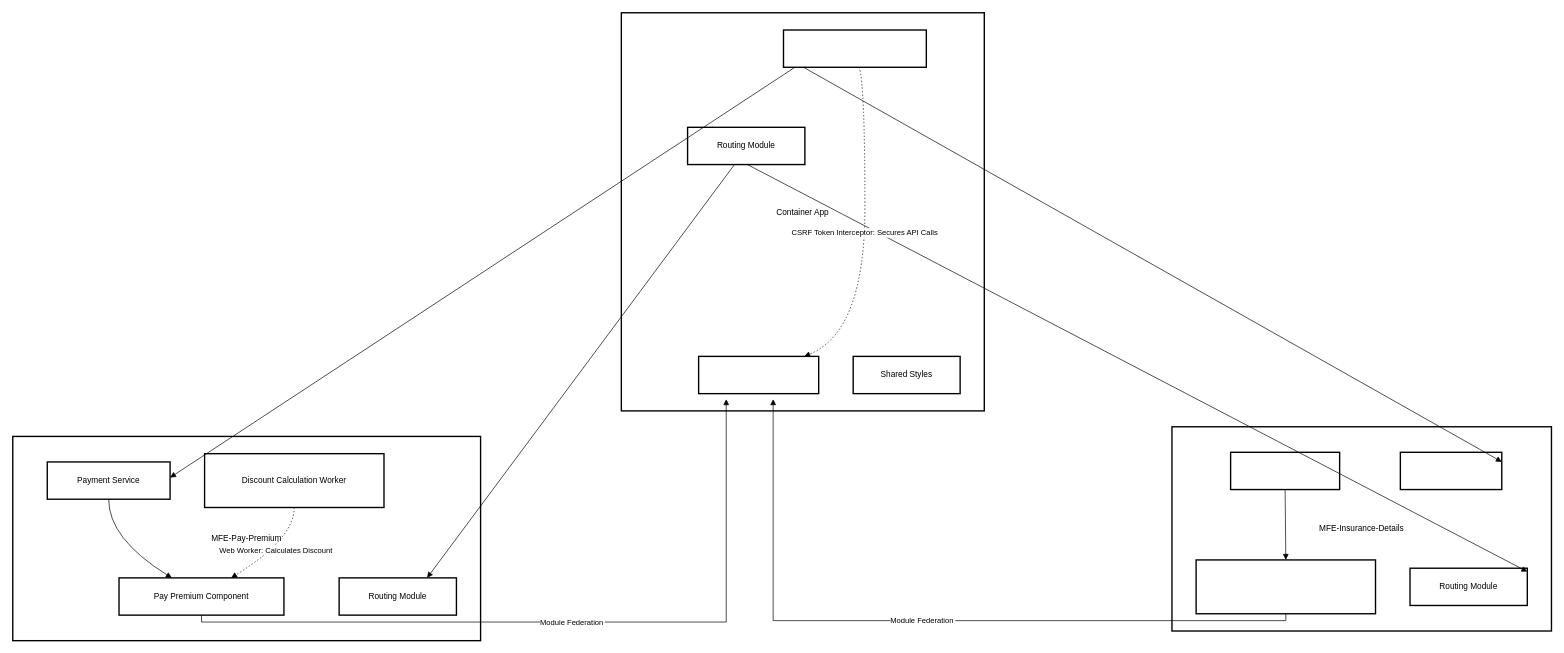
The diagram is 1564 pixels wide and 653 high, and some of its shapes have lost their labels. The shapes that lost their labels are listed below. From the top down, each one's centre as x and y in pixels, then its label:
At point 854,48: "Data Sharing Service".
At point 758,374: "App Component".
At point 1285,470: "Policy Service".
At point 1450,470: "Shared Data".
At point 1285,586: "Insurance Details Component".
